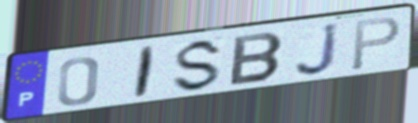0: (55, 55, 102, 107)
B: (227, 31, 287, 88)
I: (131, 44, 159, 102)
J: (293, 21, 341, 78)
P: (349, 15, 403, 73)
S: (169, 36, 227, 94)
